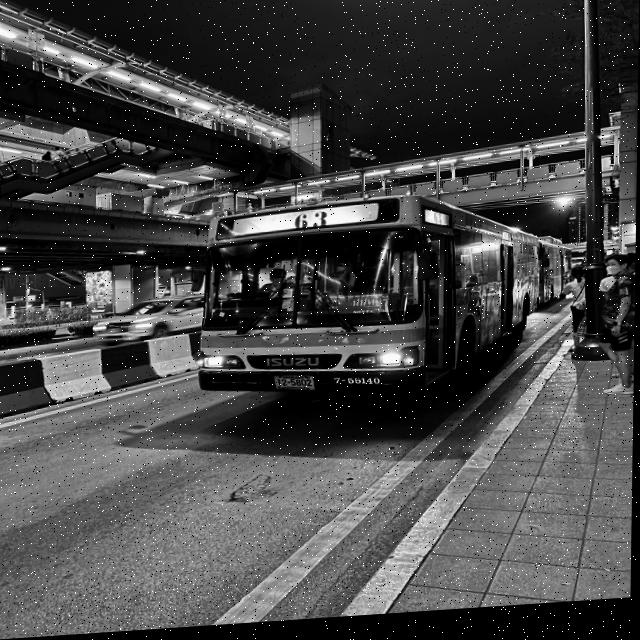BMTA-bus: (194, 195, 536, 414)
Bus-Line-Number: (287, 213, 340, 235)
Destination-Sign-Normal: (337, 296, 407, 322)
